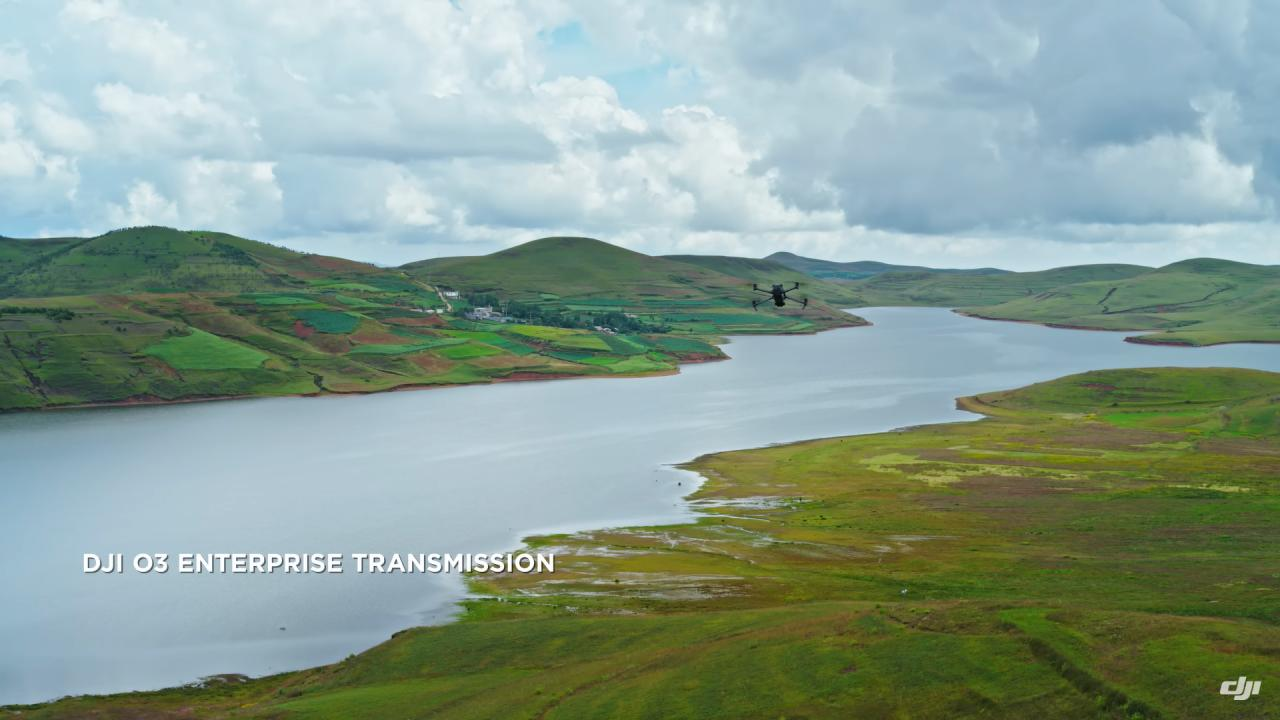Drone: (736, 272, 818, 318)
